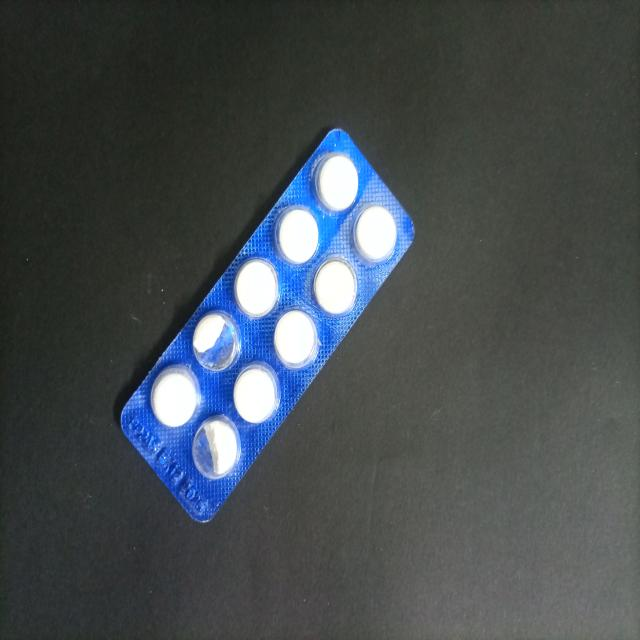defect: (190, 413, 242, 482), (191, 306, 240, 372)
